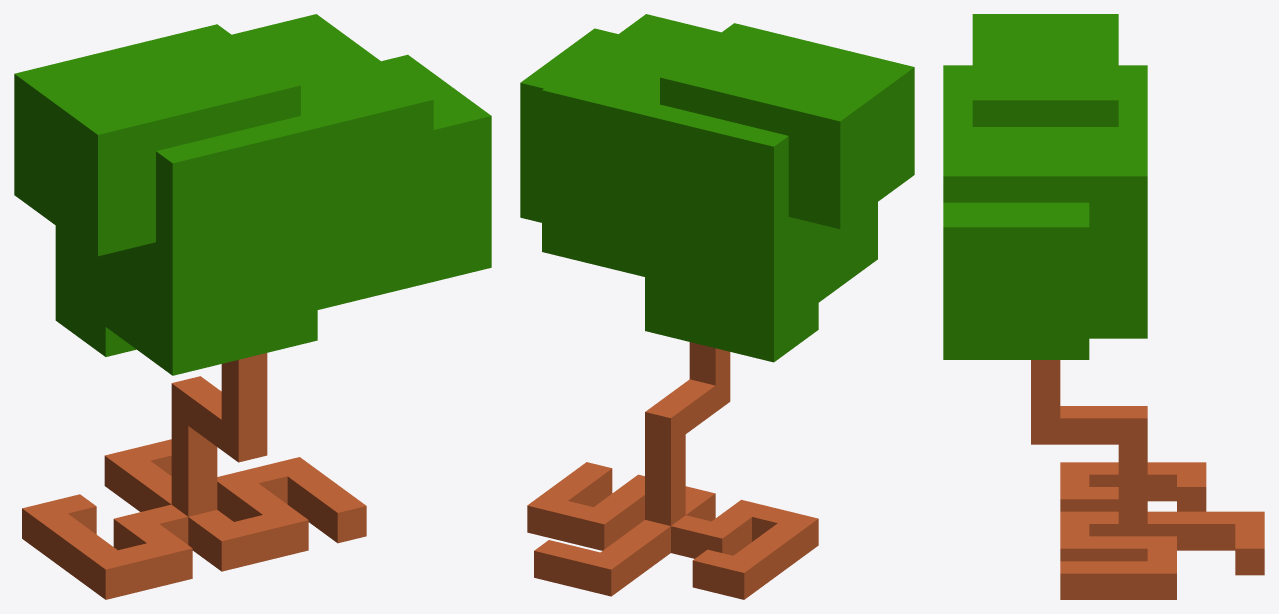
Rendered from GGJ_tree 1.obj.
3 views of the same model, side by side, from view 1: azimuth 30°, elevation 25°; view 2: azimuth 150°, elevation 25°; view 3: azimuth 270°, elevation 25° (orthographic). The views are drawn at different scales.
Size of the model in its own units: 1.3 by 1.7 by 1.1.
1 material, 1 textured.
